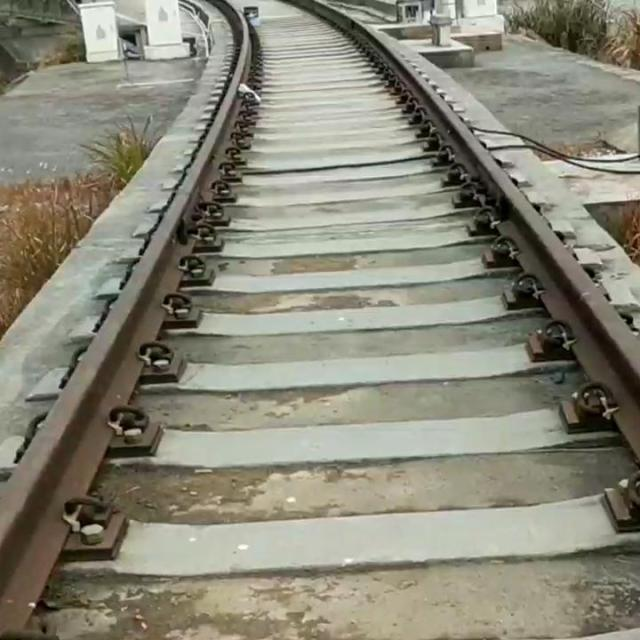rail: (1, 1, 252, 640), (315, 1, 640, 465)
